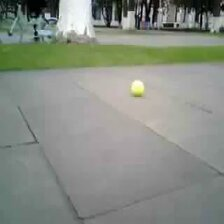tennis: (131, 79, 144, 97)
